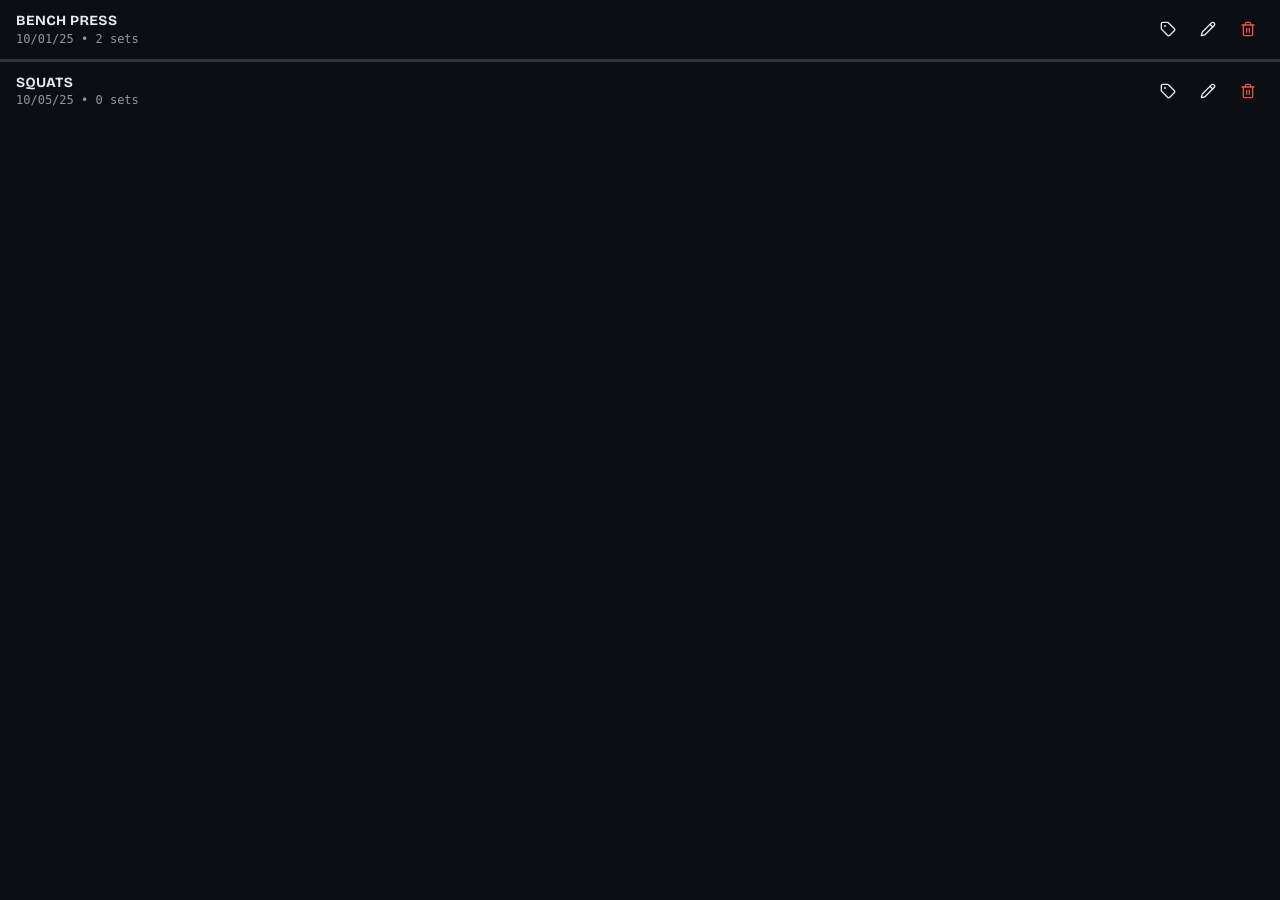
ExerciseManager › delete exercise › shows confirmation dialog before deleting
This screenshot has width=1280, height=900.
Click the button named "Delete" in the row of "10/01/25 • 2 sets" at (1248,29), box [1232,13,1264,45]
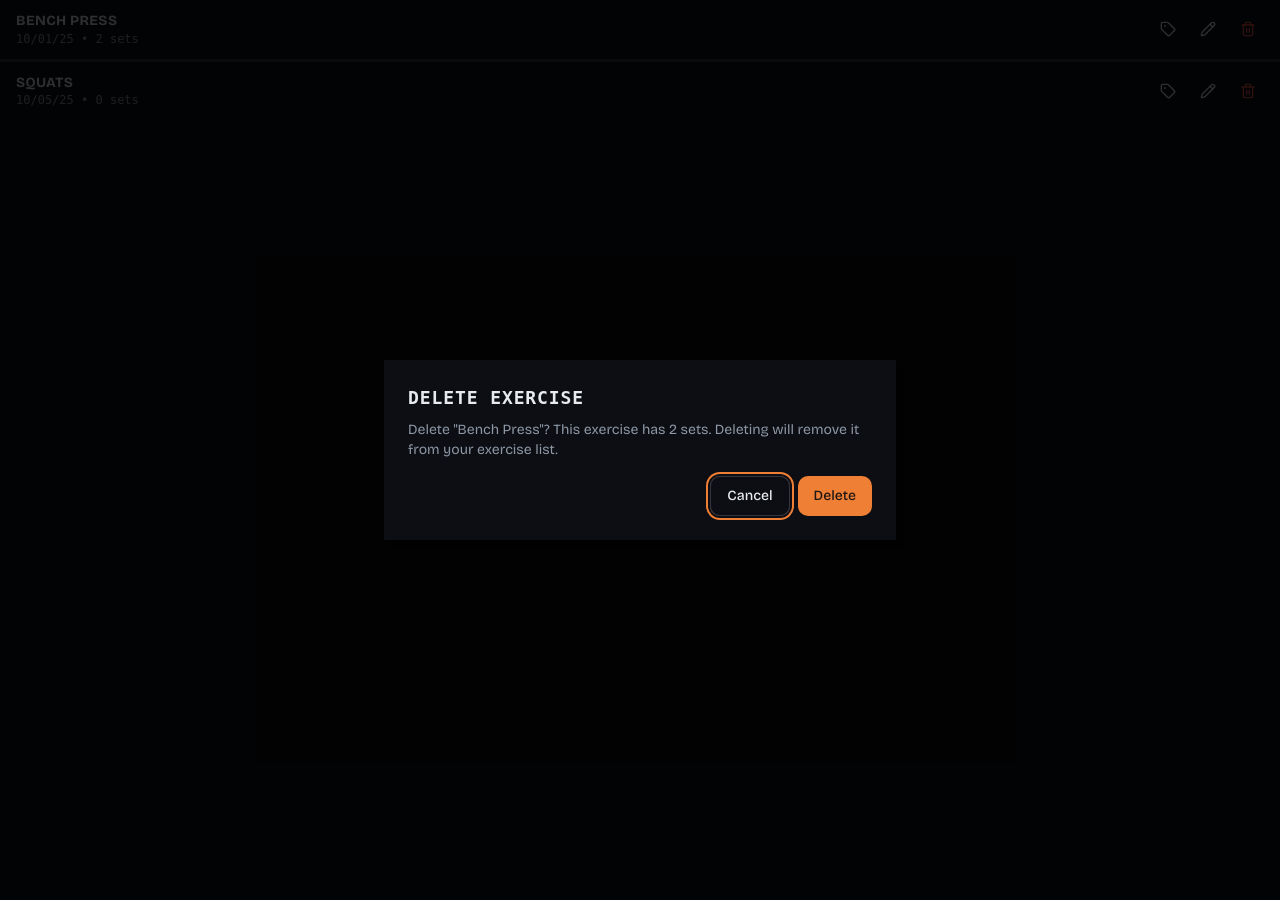
Result: the dialog is shown at [384,360,896,540]
